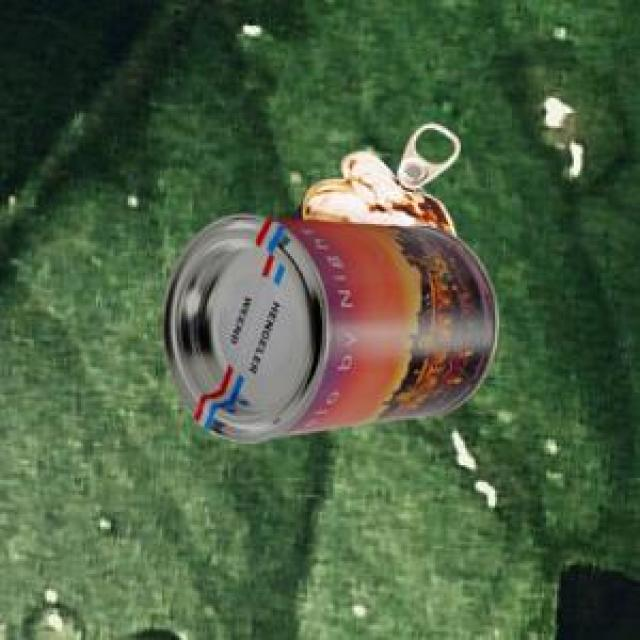logam: (161, 212, 494, 438), (287, 121, 455, 234)
